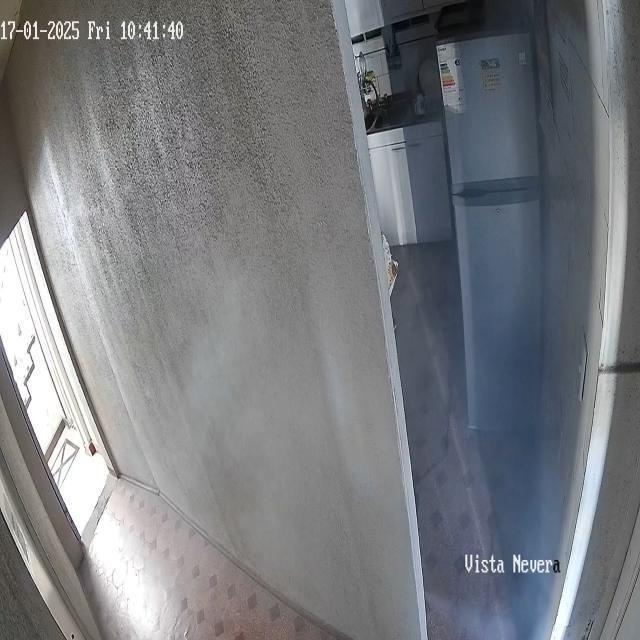fire: (384, 0, 588, 639)
